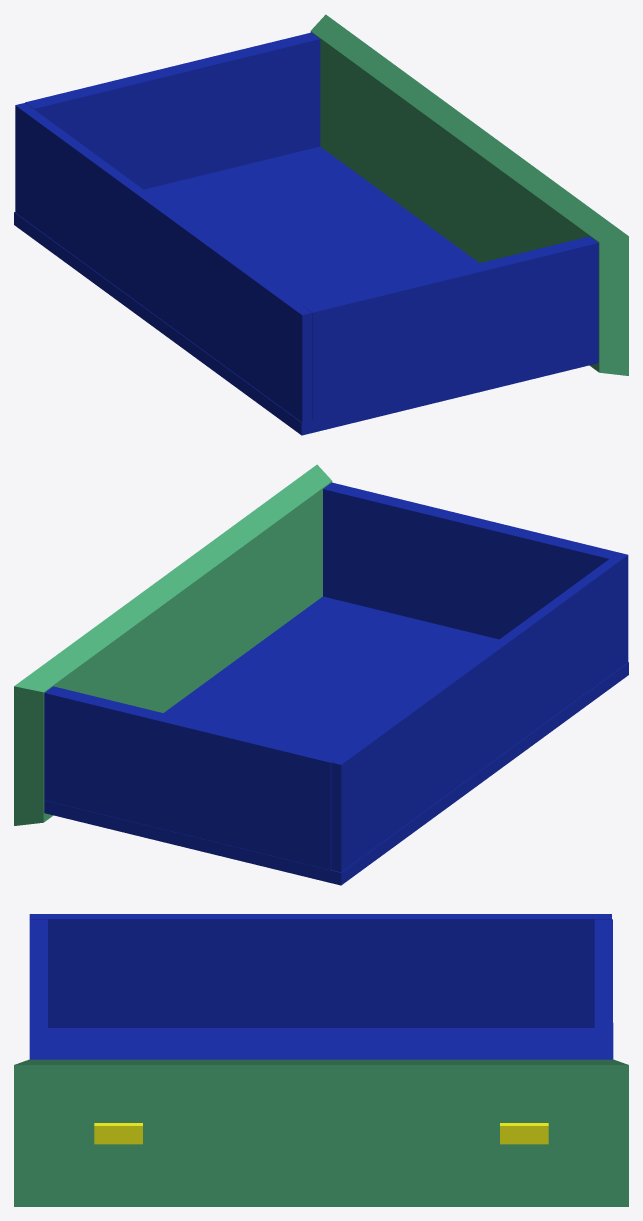
Rendered from Cajon_Med.obj.
The picture shows the model from 3 angles, top to bottom: view 1: azimuth 30°, elevation 25°; view 2: azimuth 150°, elevation 25°; view 3: azimuth 270°, elevation 25°; orthographic projection.
Parts seen in each view (by area): view 1: polySurface111 polySurface59, polySurface59 polySurface137, polySurface59 polySurface127, polySurface59 polySurface136, polySurface59 polySurface126; view 2: polySurface111 polySurface59, polySurface59 polySurface137, polySurface59 polySurface127, polySurface59 polySurface126, polySurface59 polySurface136; view 3: polySurface111 polySurface59, polySurface59 polySurface127, polySurface59 polySurface137, polySurface59 polySurface126, polySurface59 polySurface136, polySurface59 polySurface117, polySurface59 polySurface134.
Part boxes in pixels (box(x1,y1,x2,y2)): polySurface111 polySurface59: box(310, 14, 628, 375); polySurface59 polySurface137: box(14, 146, 598, 435); polySurface59 polySurface127: box(15, 103, 311, 422); polySurface59 polySurface136: box(303, 236, 598, 419); polySurface59 polySurface126: box(25, 32, 320, 189); polySurface111 polySurface59: box(14, 464, 332, 825); polySurface59 polySurface137: box(44, 596, 628, 885); polySurface59 polySurface127: box(331, 552, 628, 872); polySurface59 polySurface126: box(44, 686, 339, 869); polySurface59 polySurface136: box(323, 482, 617, 639); polySurface111 polySurface59: box(14, 1059, 628, 1206); polySurface59 polySurface127: box(29, 914, 611, 1027); polySurface59 polySurface137: box(48, 1023, 613, 1059); polySurface59 polySurface126: box(594, 919, 612, 1059); polySurface59 polySurface136: box(29, 919, 47, 1059); polySurface59 polySurface117: box(94, 1123, 142, 1144); polySurface59 polySurface134: box(500, 1123, 548, 1144).
Size of the model in its own units: 0.9409 by 0.3861 by 1.52.
3 materials, 3 textured.
